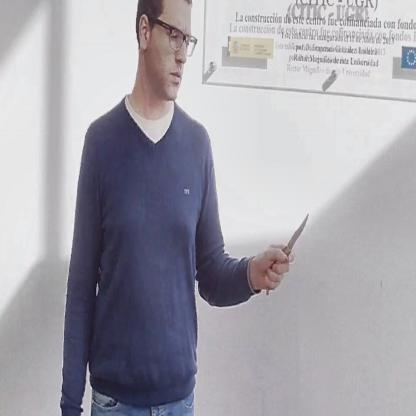knife: (262, 207, 312, 302)
